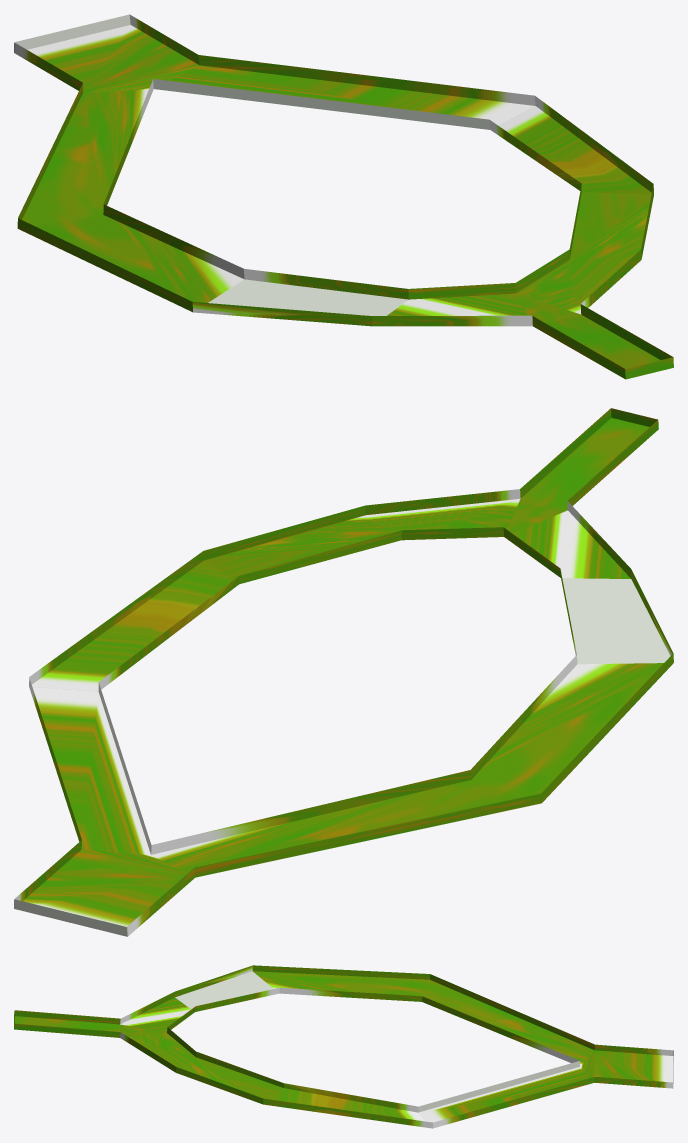
File: Stage_Short_1.0.fbx
3 renders of one model, top to bottom at view 1: azimuth 30°, elevation 25°; view 2: azimuth 150°, elevation 25°; view 3: azimuth 270°, elevation 25°, orthographic. The views are drawn at different scales.
Parts seen in each view (by area): view 1: 立方体.001; view 2: 立方体.001; view 3: 立方体.001.
Boxes of the visible parts, x1,y1,x2,y2 form: 立方体.001: (14,14,673,379); 立方体.001: (14,408,673,936); 立方体.001: (14,965,673,1128).
Size of the model in its own units: 64670 by 11557 by 124163.
1 material, 1 textured.
